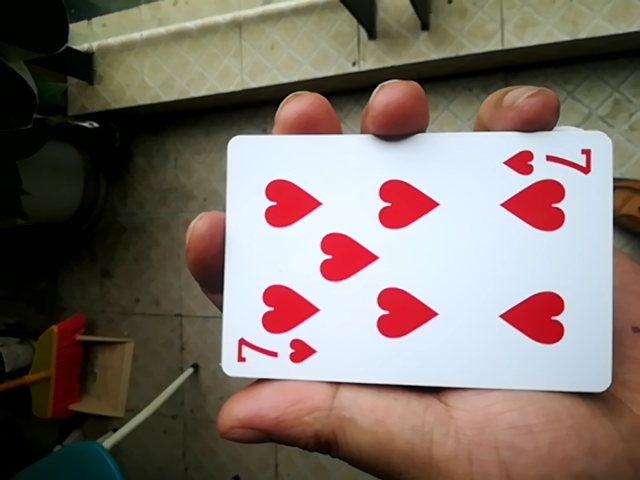hx 7: (203, 129, 613, 395)
